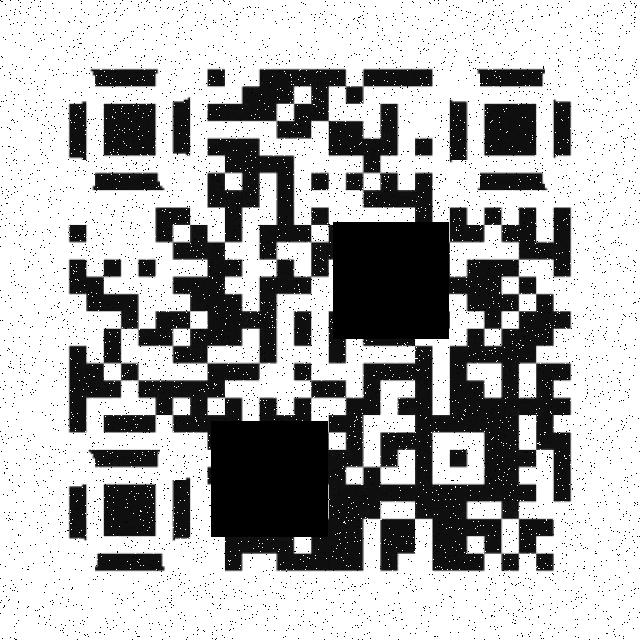QR_CODE: (49, 56, 600, 584)
